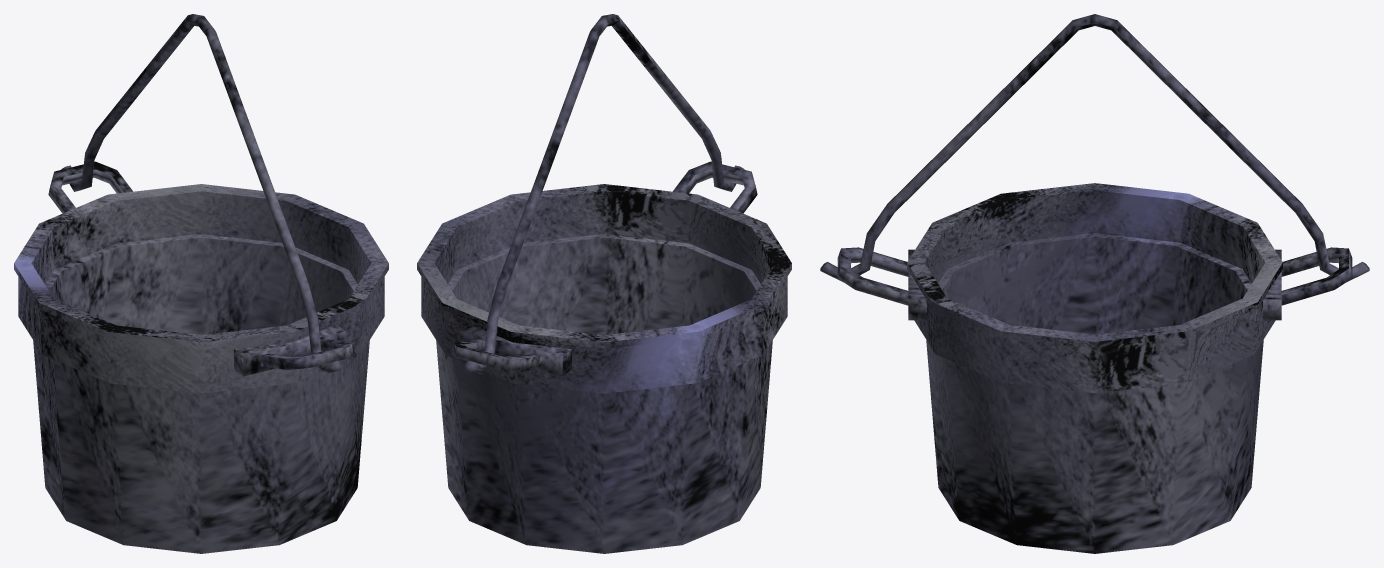
Rendered from Container02.fbx.
The picture shows the model from 3 angles, left to right: view 1: azimuth 30°, elevation 25°; view 2: azimuth 150°, elevation 25°; view 3: azimuth 270°, elevation 25°; orthographic projection.
Parts seen in each view (by area): view 1: Container02_LOD0; view 2: Container02_LOD0; view 3: Container02_LOD0.
Boxes of the visible parts, left/top/right/bottom form: Container02_LOD0: left=14, top=14, right=388, bottom=553; Container02_LOD0: left=417, top=14, right=791, bottom=553; Container02_LOD0: left=820, top=14, right=1369, bottom=553.
Size of what is drawn, in the model's own units: 31.45 by 43.63 by 45.97.
